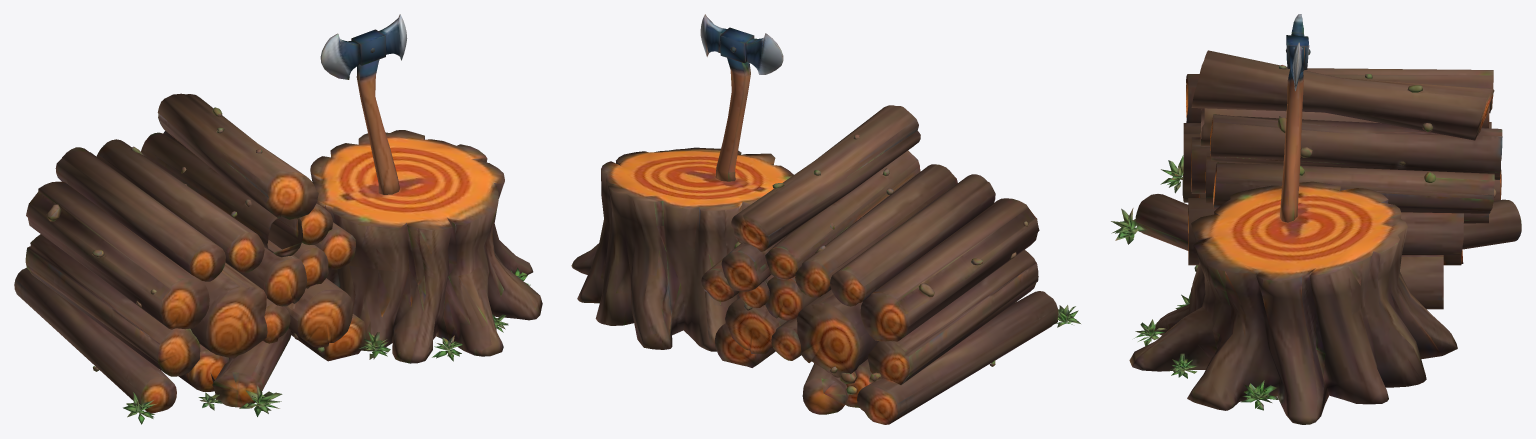
The model's file is lumber_pile.glb.
The picture shows the model from 3 angles, left to right: view 1: azimuth 30°, elevation 25°; view 2: azimuth 150°, elevation 25°; view 3: azimuth 270°, elevation 25°; orthographic projection. The views are drawn at different scales.
Size of the model in its own units: 0.9526 by 0.5679 by 0.6743.
1 material, 1 textured.
